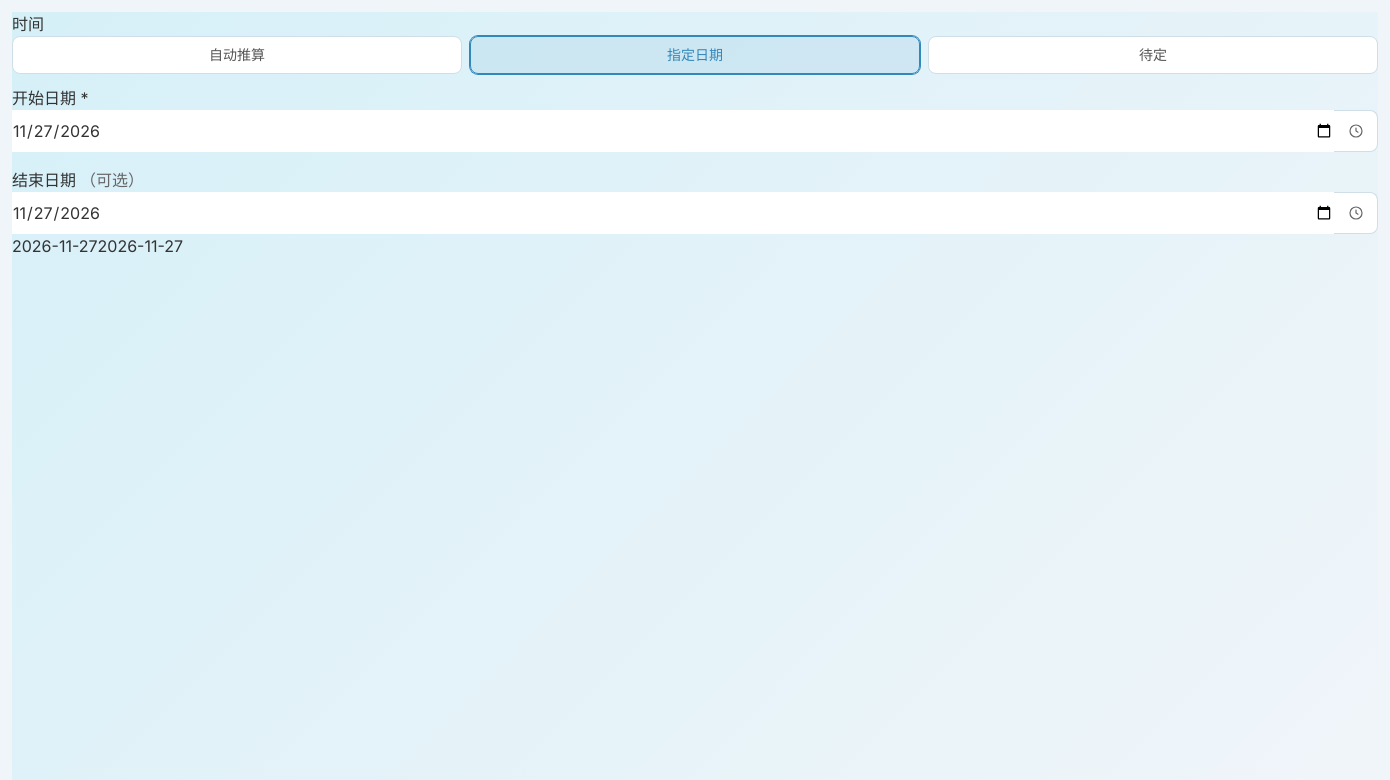
Test case: ActivityTimeChoice › 没有历史例会时提示手动指定，不切换模式
Click the button "自动推算". click: (237, 55)
box: [12, 36, 462, 74]
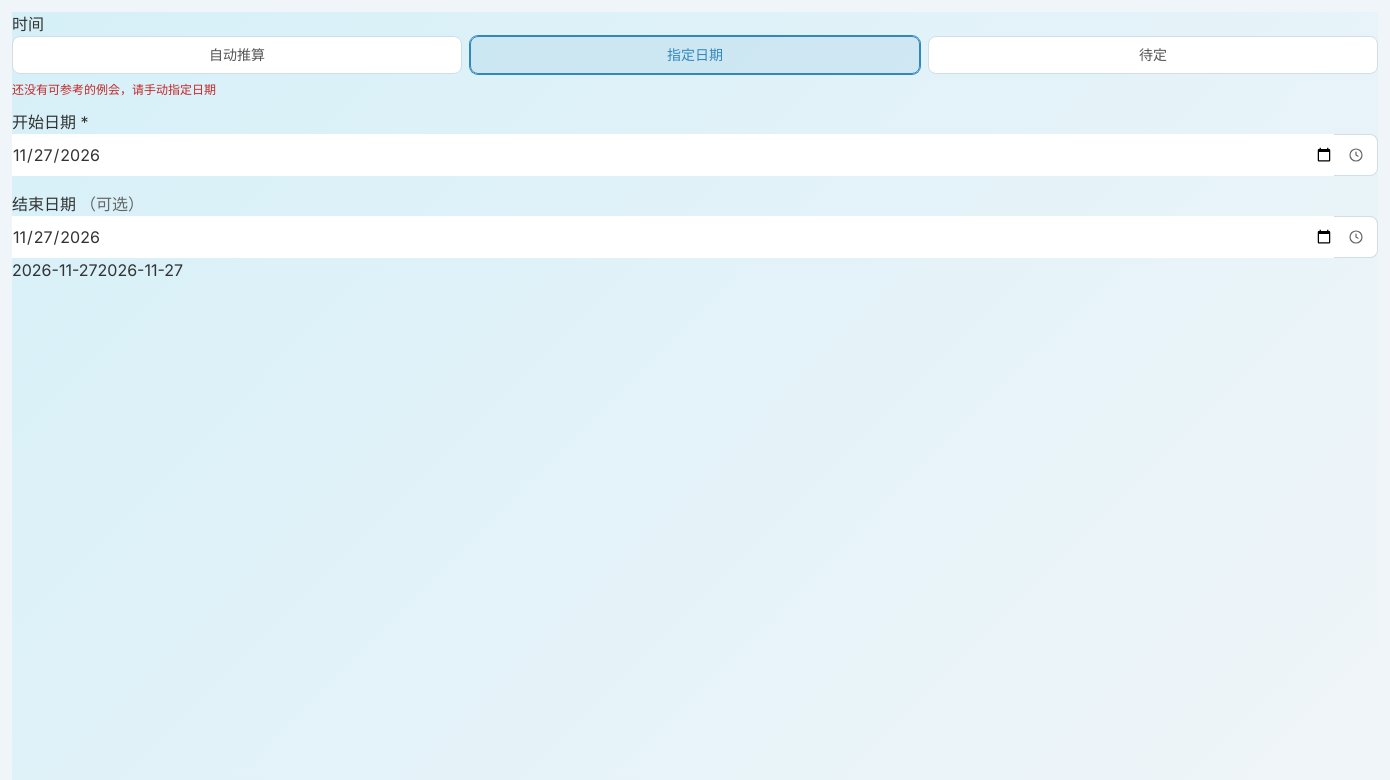
Expected: the text "还没有可参考的例会，请手动指定日期" is shown, [12, 82, 216, 97]
